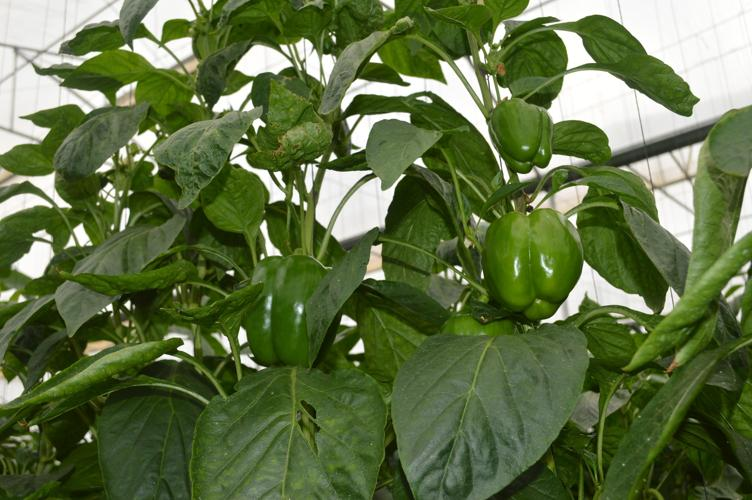BellPepper: (481, 206, 582, 316), (248, 254, 335, 363), (490, 97, 552, 171)
